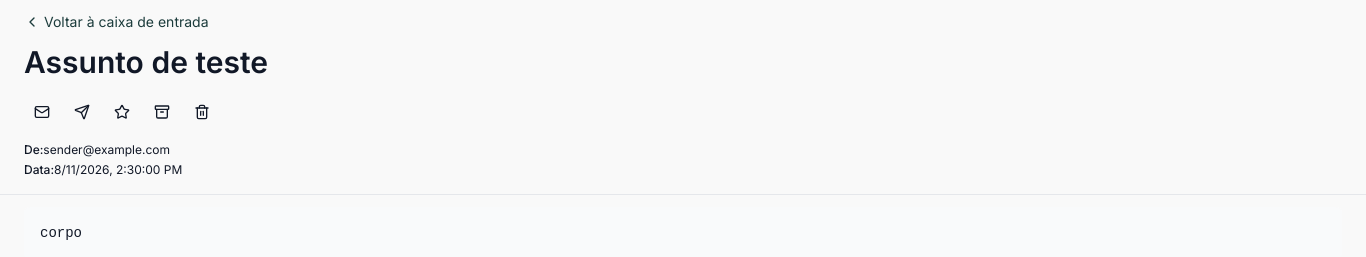
Test: EmailReadView (email-detail-full-page-task-readview-1) › unit-3: icon action tooltips match aria-label
The width and height of the screenshot is (1366, 257).
Hover over the button named "Marcar como lido".
mouse_move(42, 112)  # box [24,94,60,130]
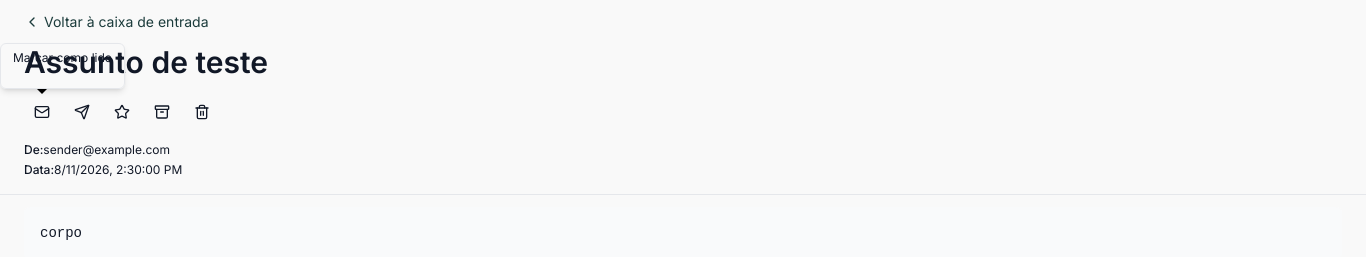
Check: the tooltip "Marcar como lido" is shown, box [0,43,125,89]
Hover over the button named "Responder".
mouse_move(82, 112)  # box [64,94,100,130]
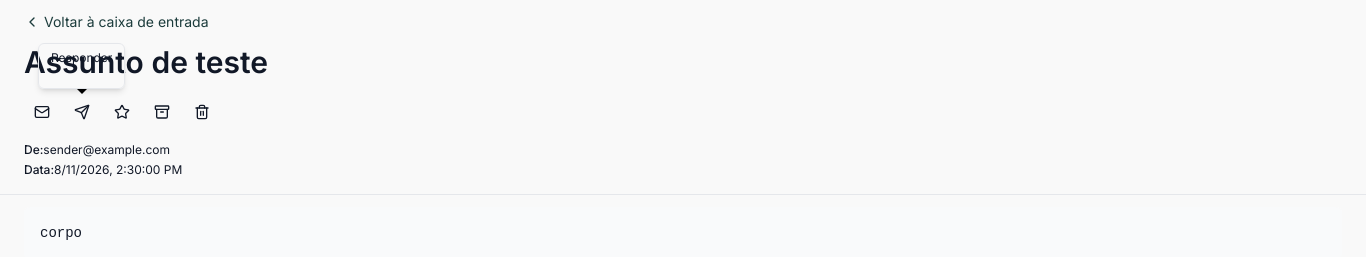
Check: the tooltip "Responder" is shown, box [38,43,125,89]
Hover over the button named "Encaminhar".
mouse_move(122, 112)  # box [104,94,140,130]
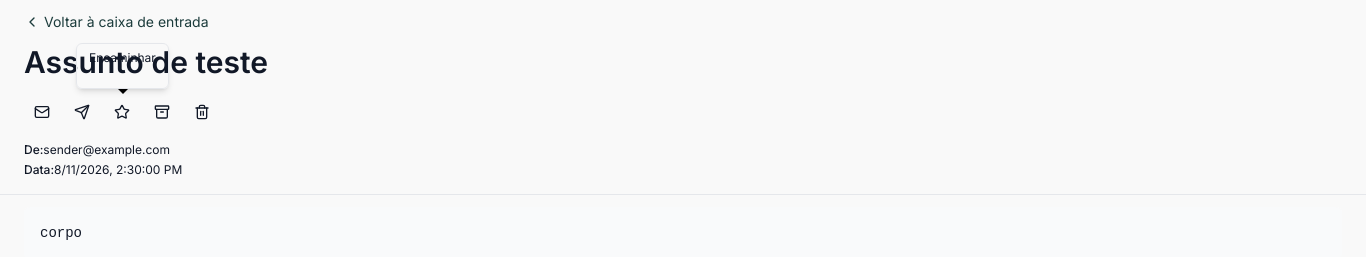
Check: the tooltip "Encaminhar" is shown, box [76,43,169,89]
Hover over the button named "Mover para outra pasta".
mouse_move(162, 112)  # box [144,94,180,130]
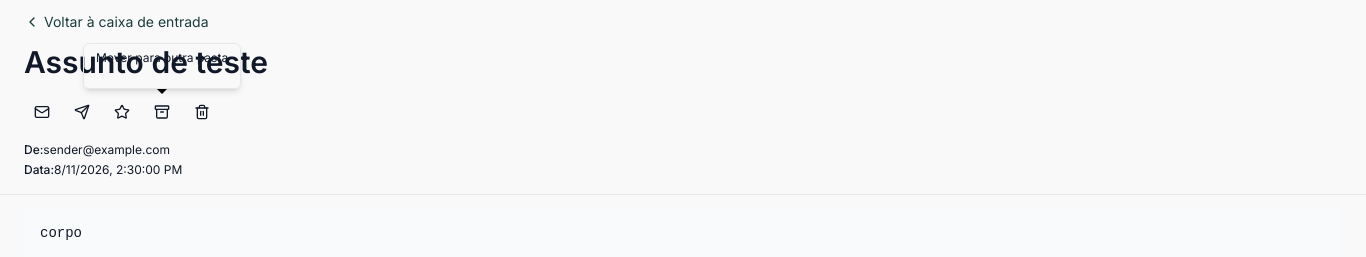
Check: the tooltip "Mover para outra pasta" is shown, box [83,43,241,89]
Hover over the button named "Excluir (mover para lixeira)".
mouse_move(202, 112)  # box [184,94,220,130]
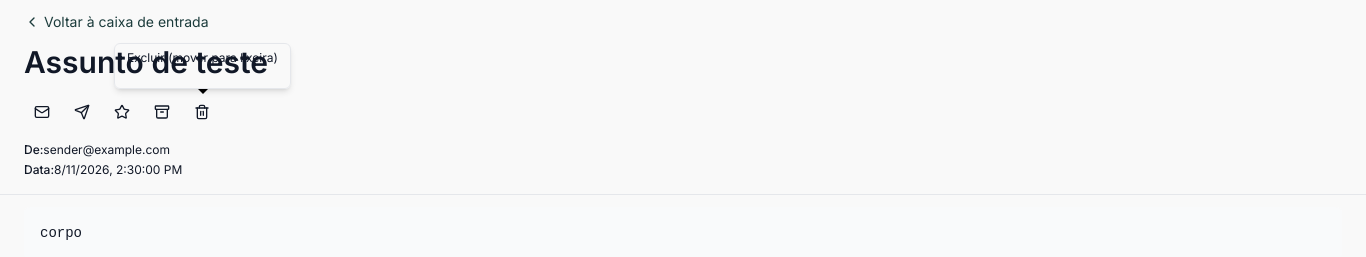
Check: the tooltip "Excluir (mover para lixeira)" is shown, box [114,43,291,89]
